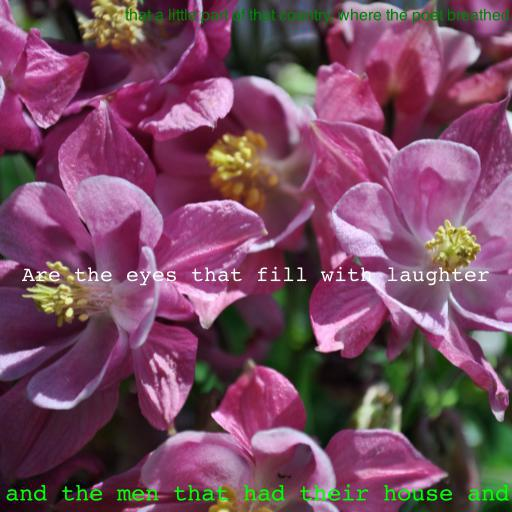Courier: (22, 266, 490, 286), (5, 484, 509, 501)
Helvetica: (124, 8, 510, 24)
